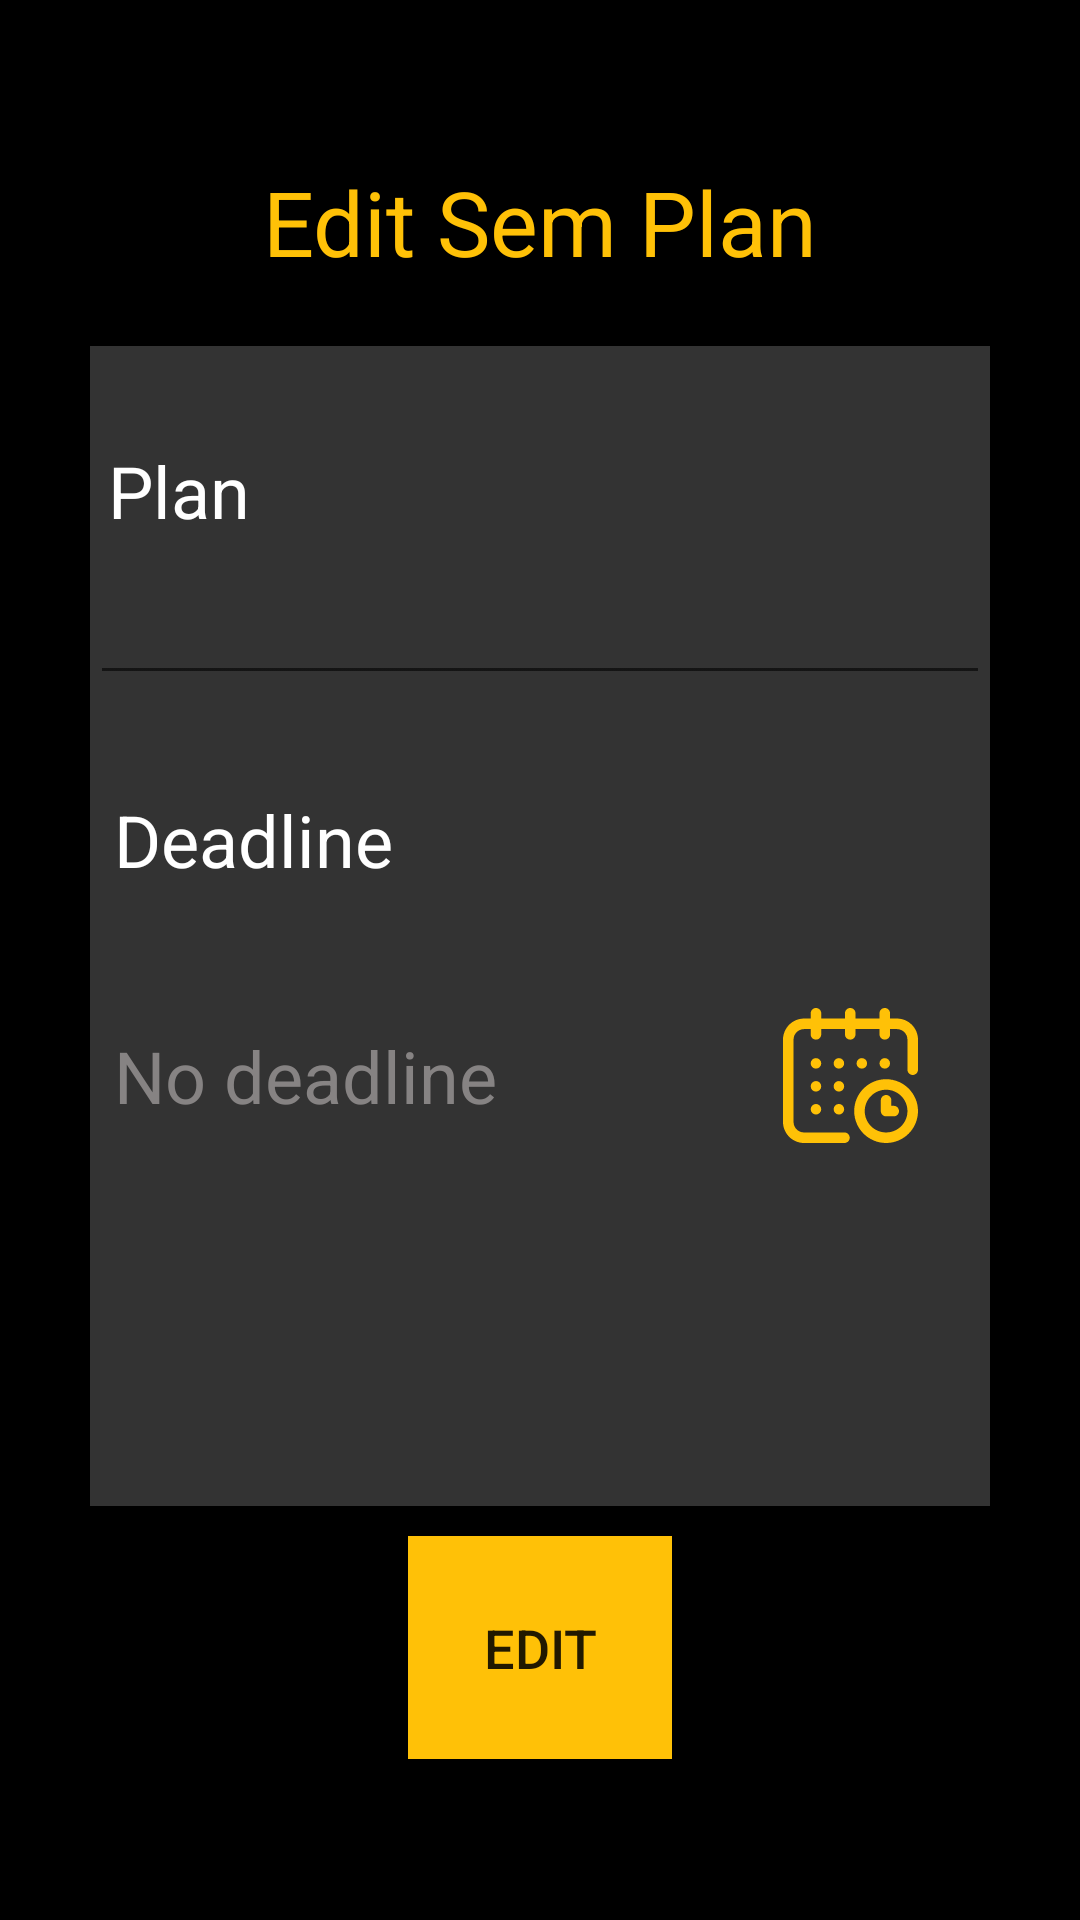

Where to tap for icons on this 1080px x 1920px app screen, as (x,y):
calendar: (850,1075)
